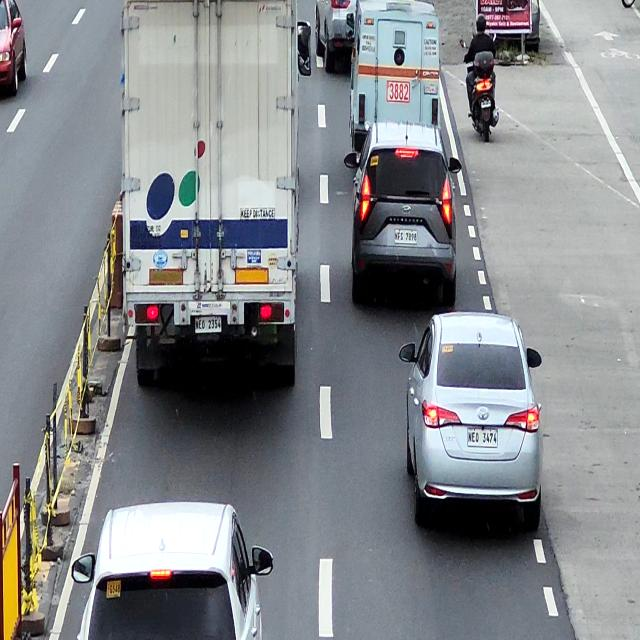Car: (399, 311, 544, 532), (71, 501, 273, 640), (343, 121, 462, 310), (350, 0, 441, 154), (316, 0, 358, 74), (0, 0, 27, 100)
License-Plate: (468, 429, 498, 446), (194, 316, 222, 333), (394, 229, 417, 243), (481, 99, 491, 108)
Motorcycle: (459, 34, 499, 141)
Truck: (121, 0, 313, 391)
